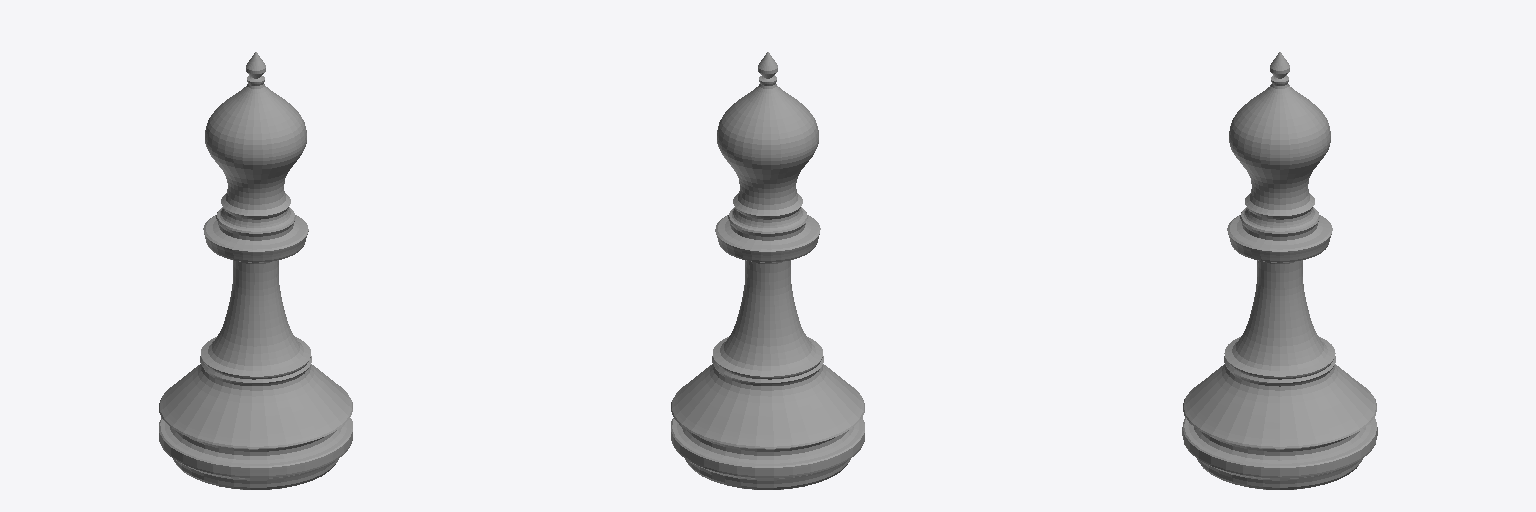
The model's file is Bishop.obj.
3 views of the same model, side by side, from view 1: azimuth 30°, elevation 25°; view 2: azimuth 150°, elevation 25°; view 3: azimuth 270°, elevation 25° (orthographic).
Visible parts, largest first — view 1: Bishop_Plane.004; view 2: Bishop_Plane.004; view 3: Bishop_Plane.004.
Part boxes in pixels (bbox=[...]): Bishop_Plane.004: bbox=[159, 52, 352, 489]; Bishop_Plane.004: bbox=[671, 52, 864, 489]; Bishop_Plane.004: bbox=[1182, 52, 1377, 489].
Bounding box in the file's own units: 3.06 × 7.1 × 3.06.